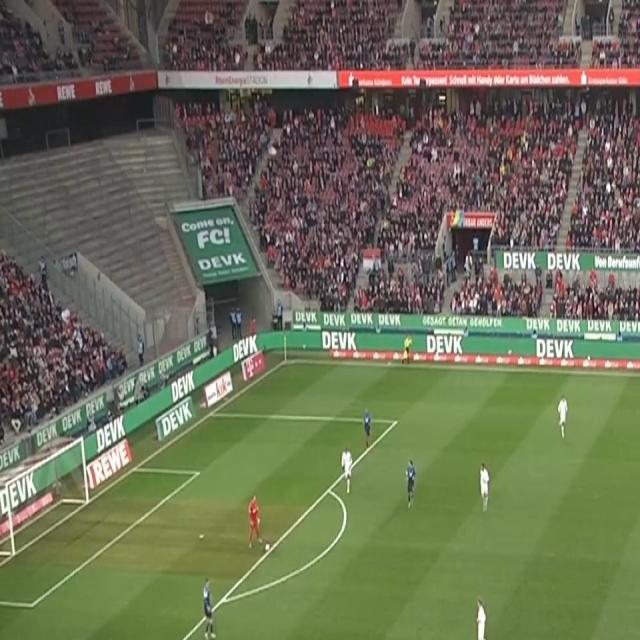ball: (264, 541, 271, 553)
